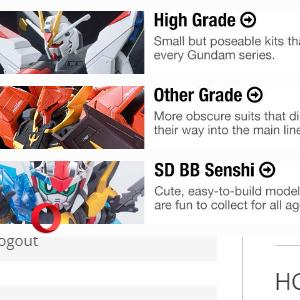opera: (32, 203, 61, 233)
